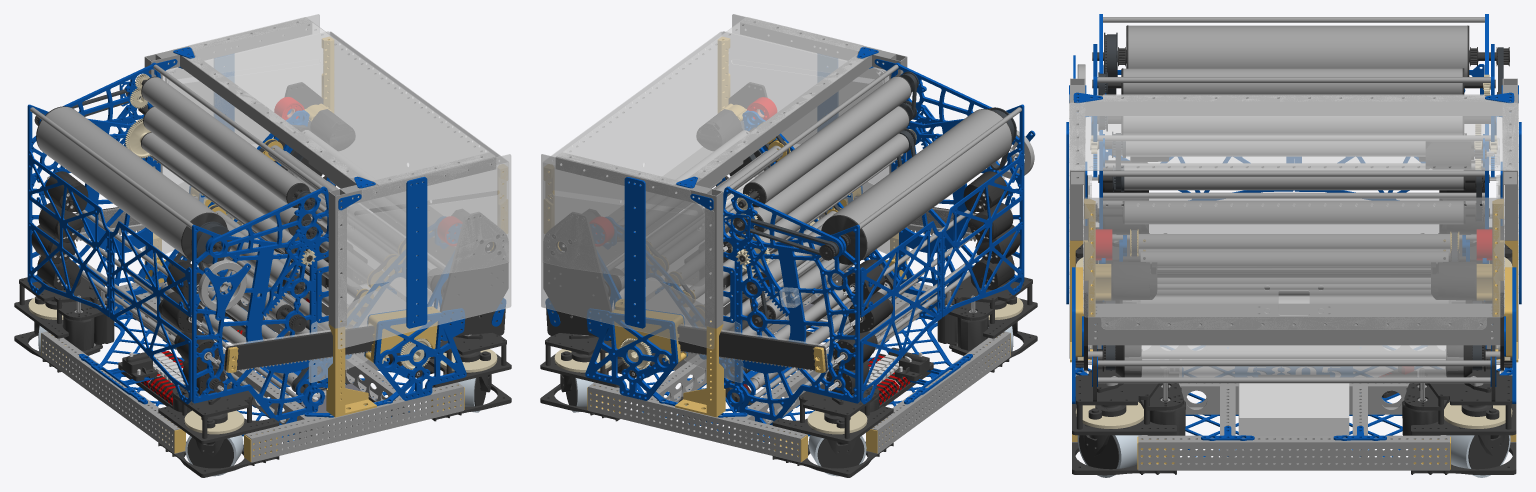
Rendered from numbers.glb.
3 renders of one model, left to right at view 1: azimuth 30°, elevation 25°; view 2: azimuth 150°, elevation 25°; view 3: azimuth 270°, elevation 25°, orthographic. The views are drawn at different scales.
Visible parts, largest first — view 1: assembly-hopper-geometry, intake-geometry, assembly-shooter-geometry, assembly-drive-geometry, roller-flywheel-geometry, hood-geometry, assembly-intake-geometry, roller-hood-upper-geometry, roller-hood-lower-geometry, roller-feeder-3-geometry, assembly-floor-geometry, wheel-br-geometry (+8 smaller); view 2: assembly-hopper-geometry, intake-geometry, assembly-shooter-geometry, assembly-drive-geometry, roller-flywheel-geometry, hood-geometry, assembly-intake-geometry, roller-hood-upper-geometry, roller-hood-lower-geometry, roller-feeder-3-geometry, assembly-floor-geometry, wheel-bl-geometry (+8 smaller); view 3: intake-geometry, assembly-hopper-geometry, assembly-drive-geometry, assembly-shooter-geometry, roller-flywheel-geometry, roller-intake-1-geometry, roller-feeder-1-geometry, roller-hood-upper-geometry, roller-hood-lower-geometry, roller-feeder-2-geometry, hood-geometry, roller-conveyor-1-geometry (+12 smaller).
Boxes of the visible parts, <box> form: assembly-hopper-geometry: <box>142,14,511,417</box>; intake-geometry: <box>74,31,508,372</box>; assembly-shooter-geometry: <box>27,104,328,437</box>; assembly-drive-geometry: <box>14,217,511,477</box>; roller-flywheel-geometry: <box>34,106,231,263</box>; hood-geometry: <box>37,62,328,316</box>; assembly-intake-geometry: <box>189,186,466,400</box>; roller-hood-upper-geometry: <box>135,73,315,210</box>; roller-hood-lower-geometry: <box>138,106,317,239</box>; roller-feeder-3-geometry: <box>141,132,308,260</box>; assembly-floor-geometry: <box>151,97,390,395</box>; wheel-br-geometry: <box>185,435,243,476</box>; assembly-hopper-geometry: <box>541,14,911,417</box>; intake-geometry: <box>543,31,977,372</box>; assembly-shooter-geometry: <box>723,104,1035,437</box>; assembly-drive-geometry: <box>540,222,1037,477</box>; roller-flywheel-geometry: <box>819,107,1016,264</box>; hood-geometry: <box>723,62,991,316</box>; assembly-intake-geometry: <box>585,186,862,400</box>; roller-hood-upper-geometry: <box>736,71,918,210</box>; roller-hood-lower-geometry: <box>736,100,916,236</box>; roller-feeder-3-geometry: <box>759,128,916,250</box>; assembly-floor-geometry: <box>661,97,899,395</box>; wheel-bl-geometry: <box>808,435,866,476</box>; intake-geometry: <box>1082,118,1505,401</box>; assembly-hopper-geometry: <box>1066,78,1521,362</box>; assembly-drive-geometry: <box>1072,227,1516,474</box>; assembly-shooter-geometry: <box>1073,14,1499,263</box>; roller-flywheel-geometry: <box>1092,25,1509,76</box>; roller-intake-1-geometry: <box>1088,345,1500,377</box>; roller-feeder-1-geometry: <box>1096,201,1489,223</box>; roller-hood-upper-geometry: <box>1092,68,1495,95</box>; roller-hood-lower-geometry: <box>1092,116,1495,134</box>; roller-feeder-2-geometry: <box>1098,165,1489,191</box>; hood-geometry: <box>1091,44,1503,177</box>; roller-conveyor-1-geometry: <box>1118,249,1470,266</box>.
Size of the model in its own units: 0.691 by 0.5554 by 0.7416.
